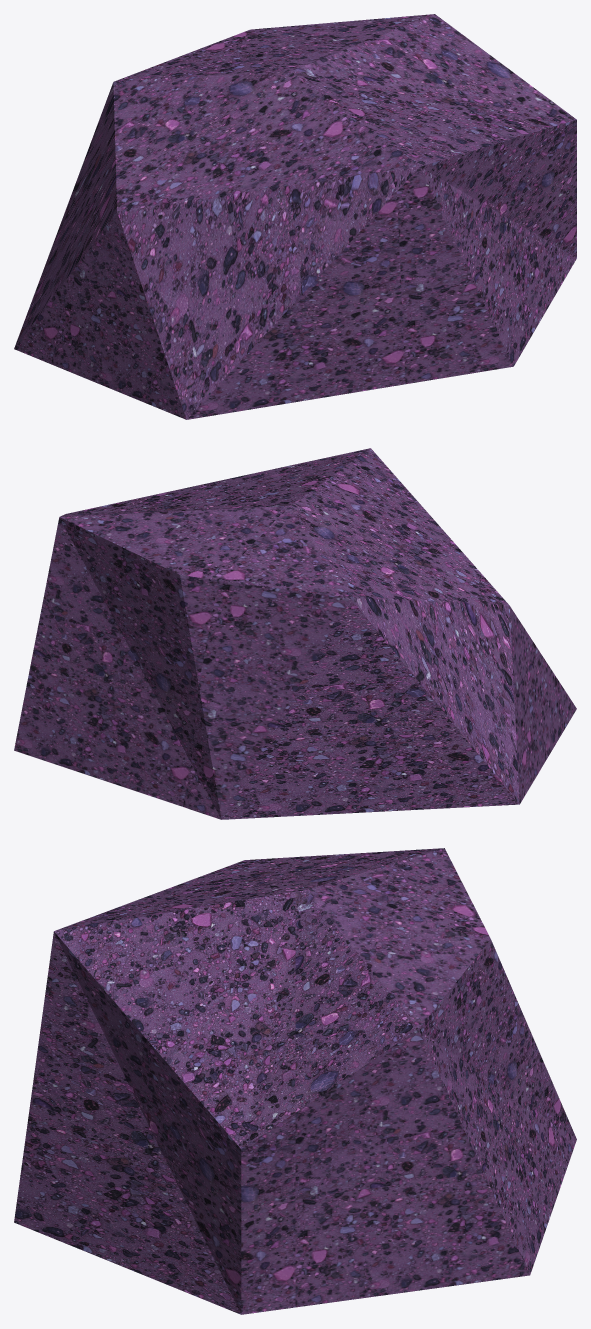
File: piedra.fbx
The picture shows the model from 3 angles, top to bottom: view 1: azimuth 30°, elevation 25°; view 2: azimuth 150°, elevation 25°; view 3: azimuth 270°, elevation 25°; orthographic projection. The views are drawn at different scales.
Visible parts, largest first — view 1: Componen11; view 2: Componen11; view 3: Componen11.
Boxes of the visible parts, x1,y1,x2,y2 form: Componen11: (14,14,576,419); Componen11: (14,448,576,819); Componen11: (14,848,576,1314).
Bounding box in the file's own units: 16.91 × 9.04 × 13.41.
Materials: 1 (1 with a texture image).
